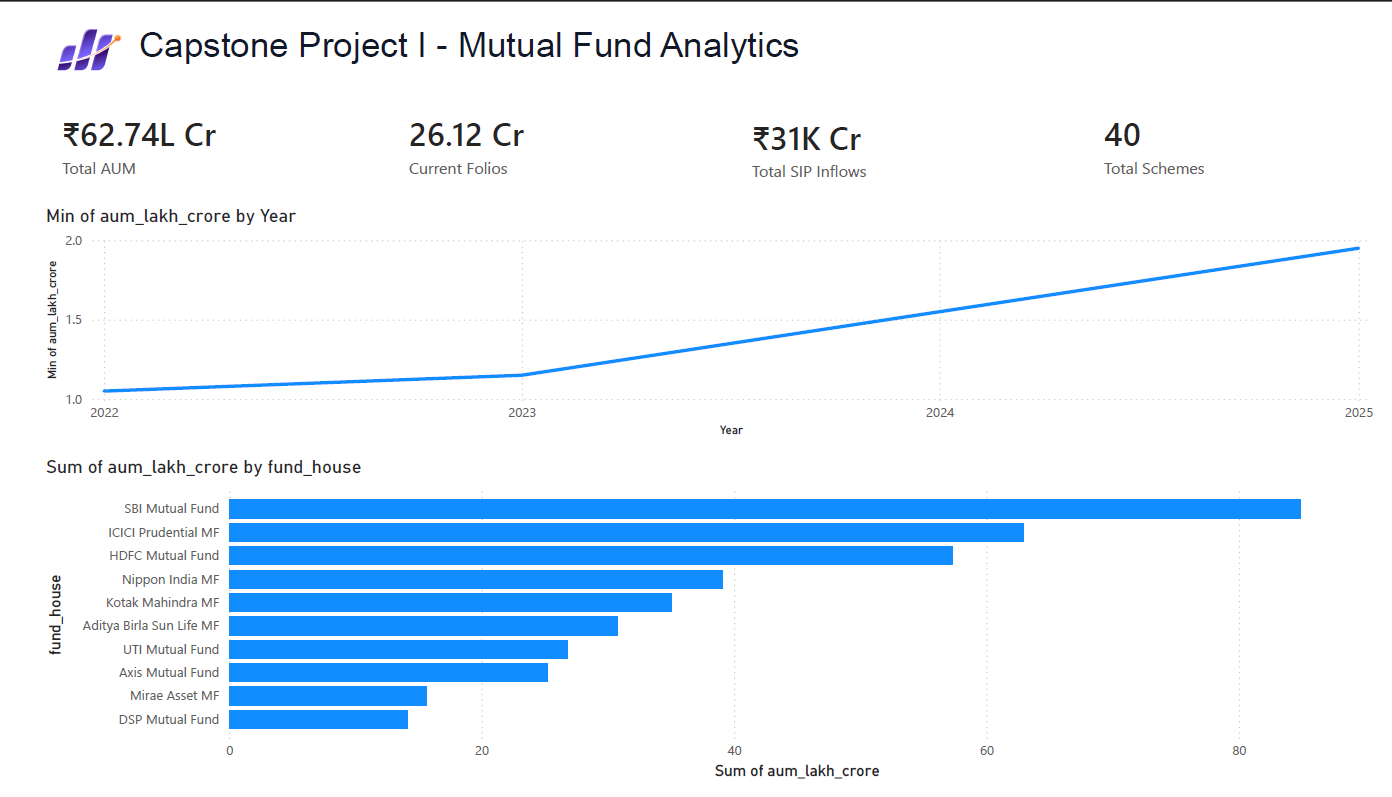

This screenshot's page, from the dashboard's own definition file:
{"tool":"powerbi","page":{"name":"Industry Overview","canvas":[1280,720],"ordinal":0},"visuals":[{"type":"cardVisual","fields":{"Data":["clean_aum_by_fund_house.Total AUM"]},"box":[30.3,77,279.2,96.3],"z":0},{"type":"cardVisual","fields":{"Data":["clean_monthly_sip_inflows.Total SIP Inflows"]},"box":[661.5,77,279.2,103.1],"z":1000},{"type":"cardVisual","fields":{"Data":["clean_industry_folio_count.Current Folios"]},"box":[346.5,77,280.5,96.3],"z":2000},{"type":"cardVisual","fields":{"Data":["clean_fund_master.Total Schemes"]},"box":[983.2,77,280.5,96.3],"z":3000},{"type":"lineChart","fields":{"Category":["clean_aum_by_fund_house.date.Variation.Date Hierarchy.Year","clean_aum_by_fund_house.date.Variation.Date Hierarchy.Quarter","clean_aum_by_fund_house.date.Variation.Date Hierarchy.Month"],"Y":["Min(clean_aum_by_fund_house.aum_lakh_crore)"]},"box":[38.5,180.1,1223.9,217.3],"z":4000},{"type":"clusteredBarChart","fields":{"Category":["clean_aum_by_fund_house.fund_house"],"Y":["Sum(clean_aum_by_fund_house.aum_lakh_crore)"]},"box":[38.5,409.8,1223.9,301.2],"z":5000},{"type":"textbox","box":[123.8,11,668.3,56.4],"z":5001},{"type":"image","box":[0,0,166.4,77],"z":5002}]}

Visuals, with their boxes in screenshot pixels (x1, y1, x2, y2), scaled from the page's 1280x720 canvas onto the 1392x797 screenshot:
cardVisual - clean_aum_by_fund_house.Total AUM: <box>33,85,337,192</box>
cardVisual - clean_monthly_sip_inflows.Total SIP Inflows: <box>719,85,1023,199</box>
cardVisual - clean_industry_folio_count.Current Folios: <box>377,85,682,192</box>
cardVisual - clean_fund_master.Total Schemes: <box>1069,85,1374,192</box>
lineChart - clean_aum_by_fund_house.date.Variation.Date Hierarchy.Year x clean_aum_by_fund_house.date.Variation.Date Hierarchy.Quarter: <box>42,199,1373,440</box>
clusteredBarChart - clean_aum_by_fund_house.fund_house x Sum(clean_aum_by_fund_house.aum_lakh_crore): <box>42,454,1373,787</box>
textbox: <box>135,12,861,75</box>
image: <box>0,0,181,85</box>
